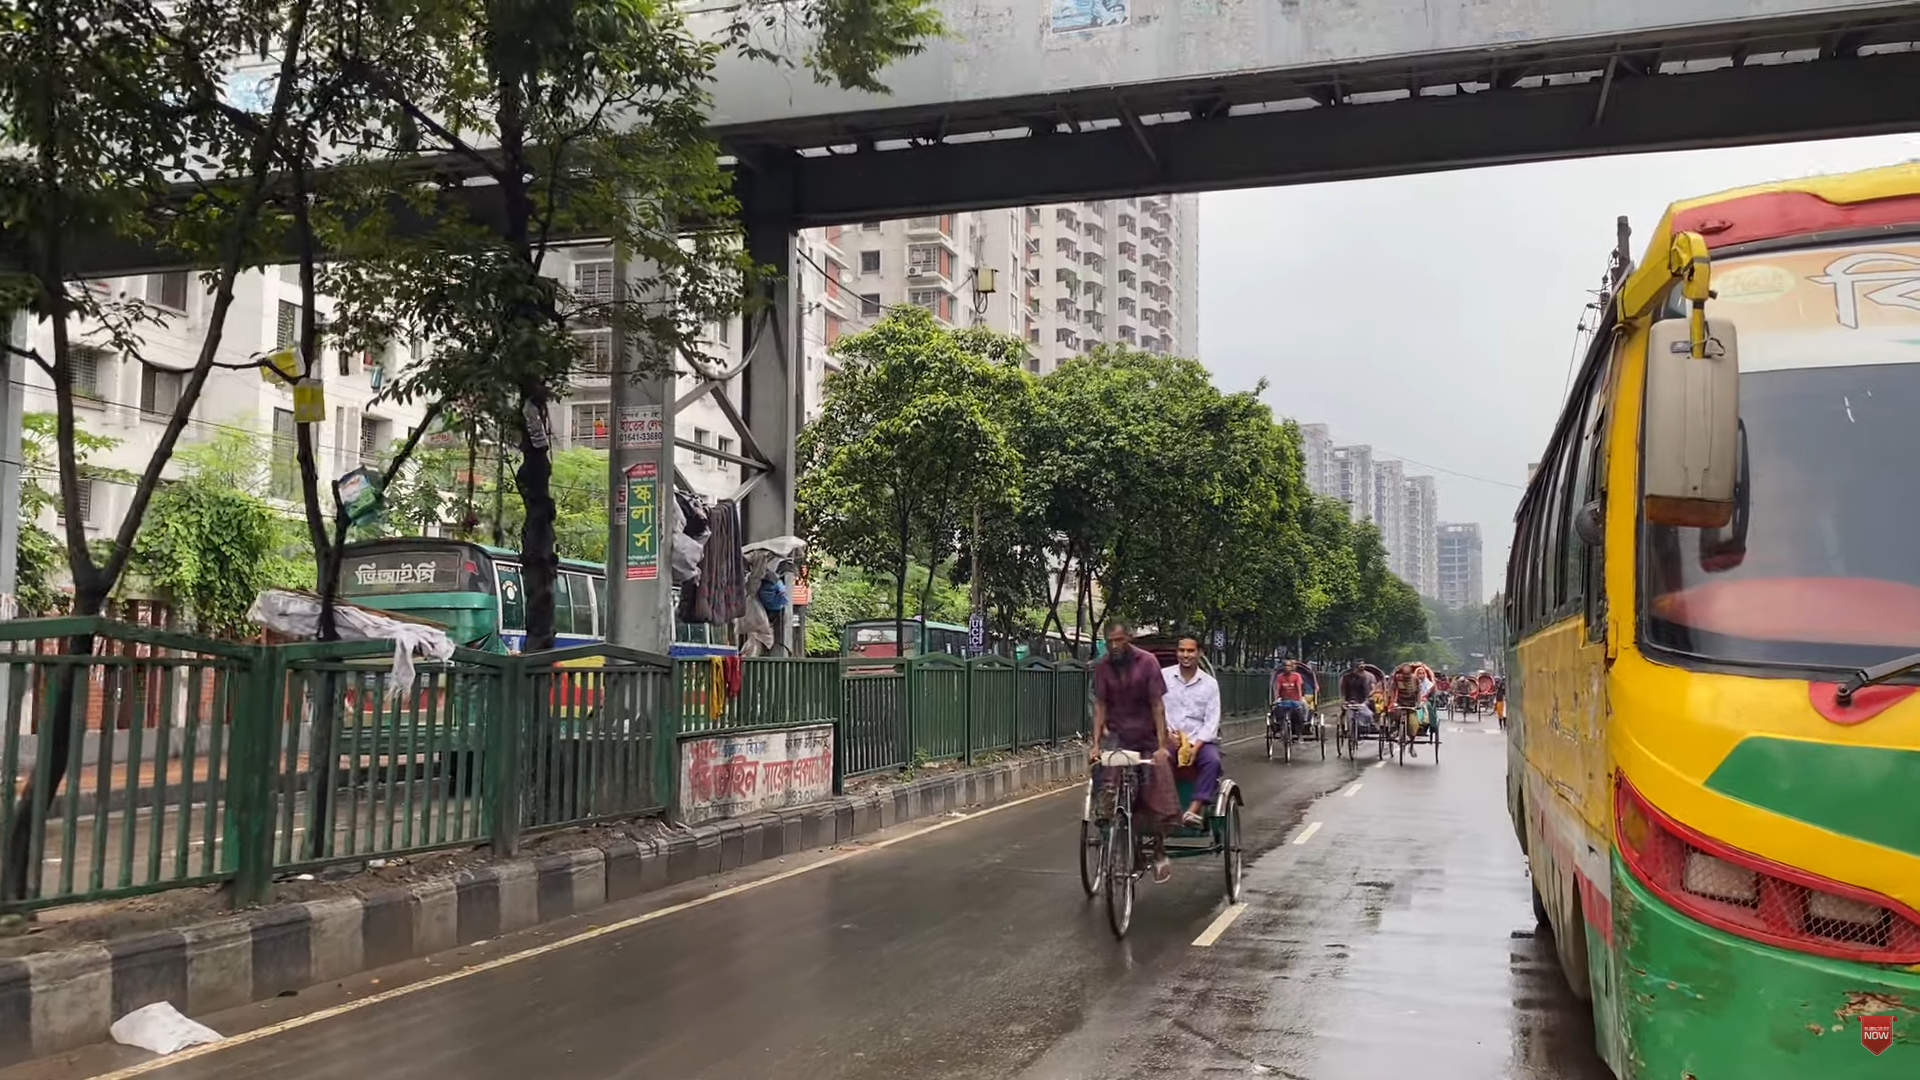Bus: (1468, 154, 1920, 1080)
Rickshaw: (1046, 618, 1250, 957)
